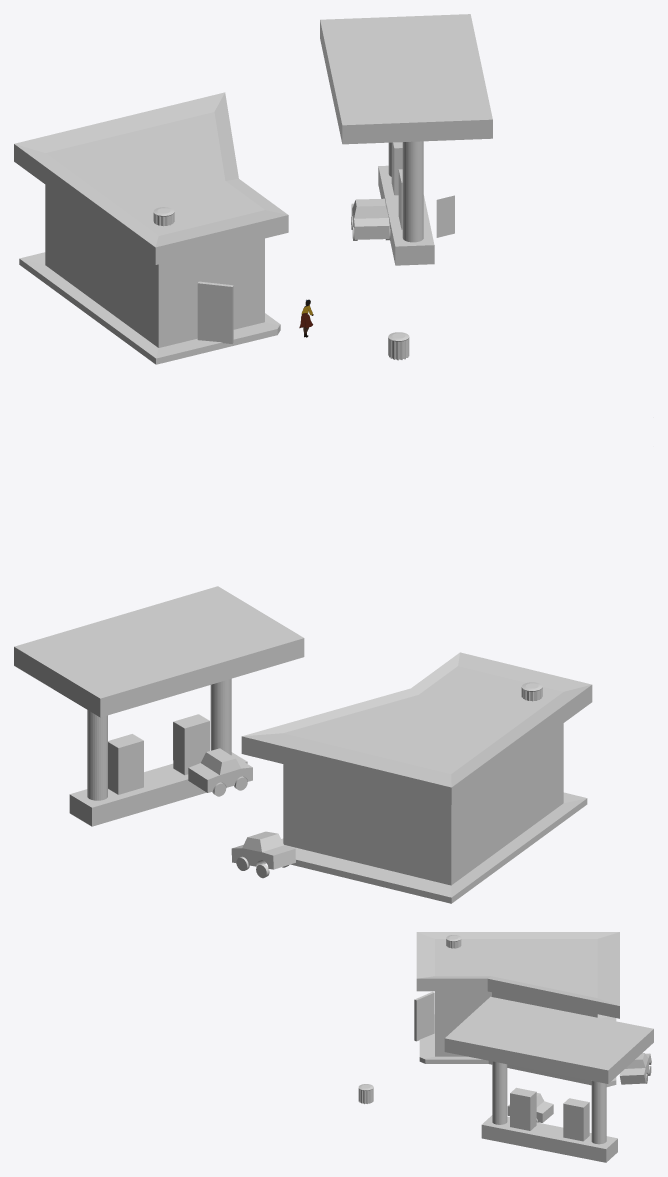
3 renders of one model, top to bottom at view 1: azimuth 30°, elevation 25°; view 2: azimuth 150°, elevation 25°; view 3: azimuth 270°, elevation 25°, orthographic. The views are drawn at different scales.
Visible parts, largest first — view 1: building.001, carport_roof.001, carport_base.001, carport_pillar_near.001, door.001, car_body.001, chester.001; view 2: building.001, carport_roof.001, carport_base.001, car_body.001, carport_pillar_far.001, wrecked_car_body.001, carport_pillar_near.001; view 3: building.001, carport_roof.001, carport_base.001, carport_pillar_near.001, carport_pillar_far.001, door.001, wrecked_car_body.001, car_body.001.
Boxes of the visible parts, left/top/right/bottom form: building.001: left=14, top=92, right=288, bottom=364; carport_roof.001: left=320, top=14, right=492, bottom=144; carport_base.001: left=378, top=142, right=434, bottom=265; carport_pillar_near.001: left=402, top=141, right=423, bottom=242; door.001: left=197, top=281, right=233, bottom=343; car_body.001: left=351, top=198, right=389, bottom=239; chester.001: left=436, top=195, right=454, bottom=237; building.001: left=241, top=652, right=592, bottom=903; carport_roof.001: left=14, top=586, right=304, bottom=717; carport_base.001: left=69, top=714, right=247, bottom=826; car_body.001: left=188, top=748, right=252, bottom=792; carport_pillar_far.001: left=87, top=710, right=107, bottom=800; wrecked_car_body.001: left=231, top=831, right=295, bottom=869; carport_pillar_near.001: left=210, top=678, right=231, bottom=755; building.001: left=416, top=932, right=619, bottom=1086; carport_roof.001: left=444, top=996, right=653, bottom=1083; carport_base.001: left=481, top=1087, right=617, bottom=1162; carport_pillar_near.001: left=492, top=1061, right=507, bottom=1124; carport_pillar_far.001: left=591, top=1081, right=606, bottom=1144; door.001: left=414, top=991, right=434, bottom=1041; wrecked_car_body.001: left=619, top=1053, right=651, bottom=1084; car_body.001: left=507, top=1093, right=553, bottom=1122.
Size of what is drawn, in the model's own units: 4920 by 1678 by 8463.
